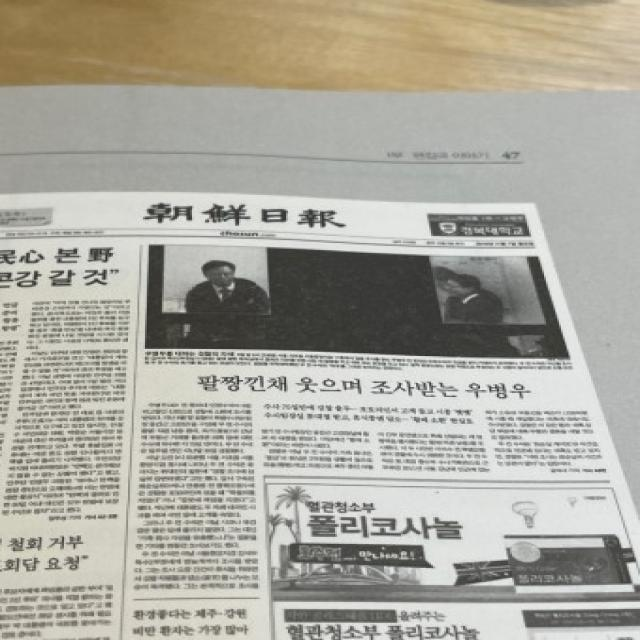Newspaper: (2, 190, 640, 640)
